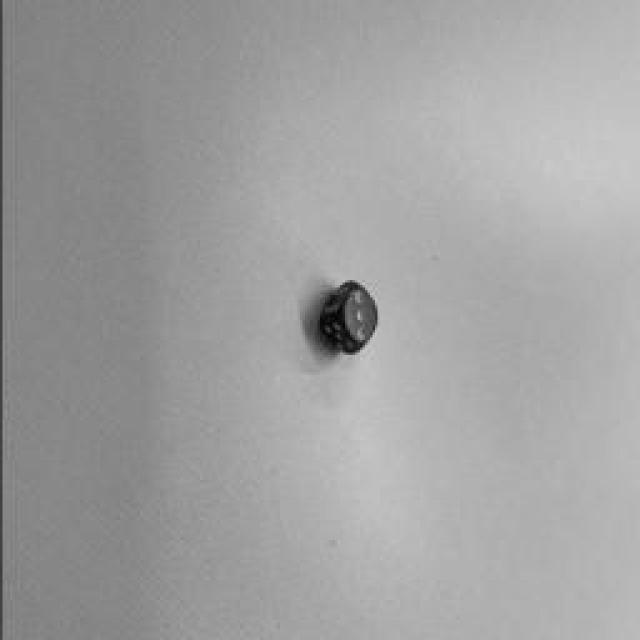dice_3: (341, 288, 379, 344)
